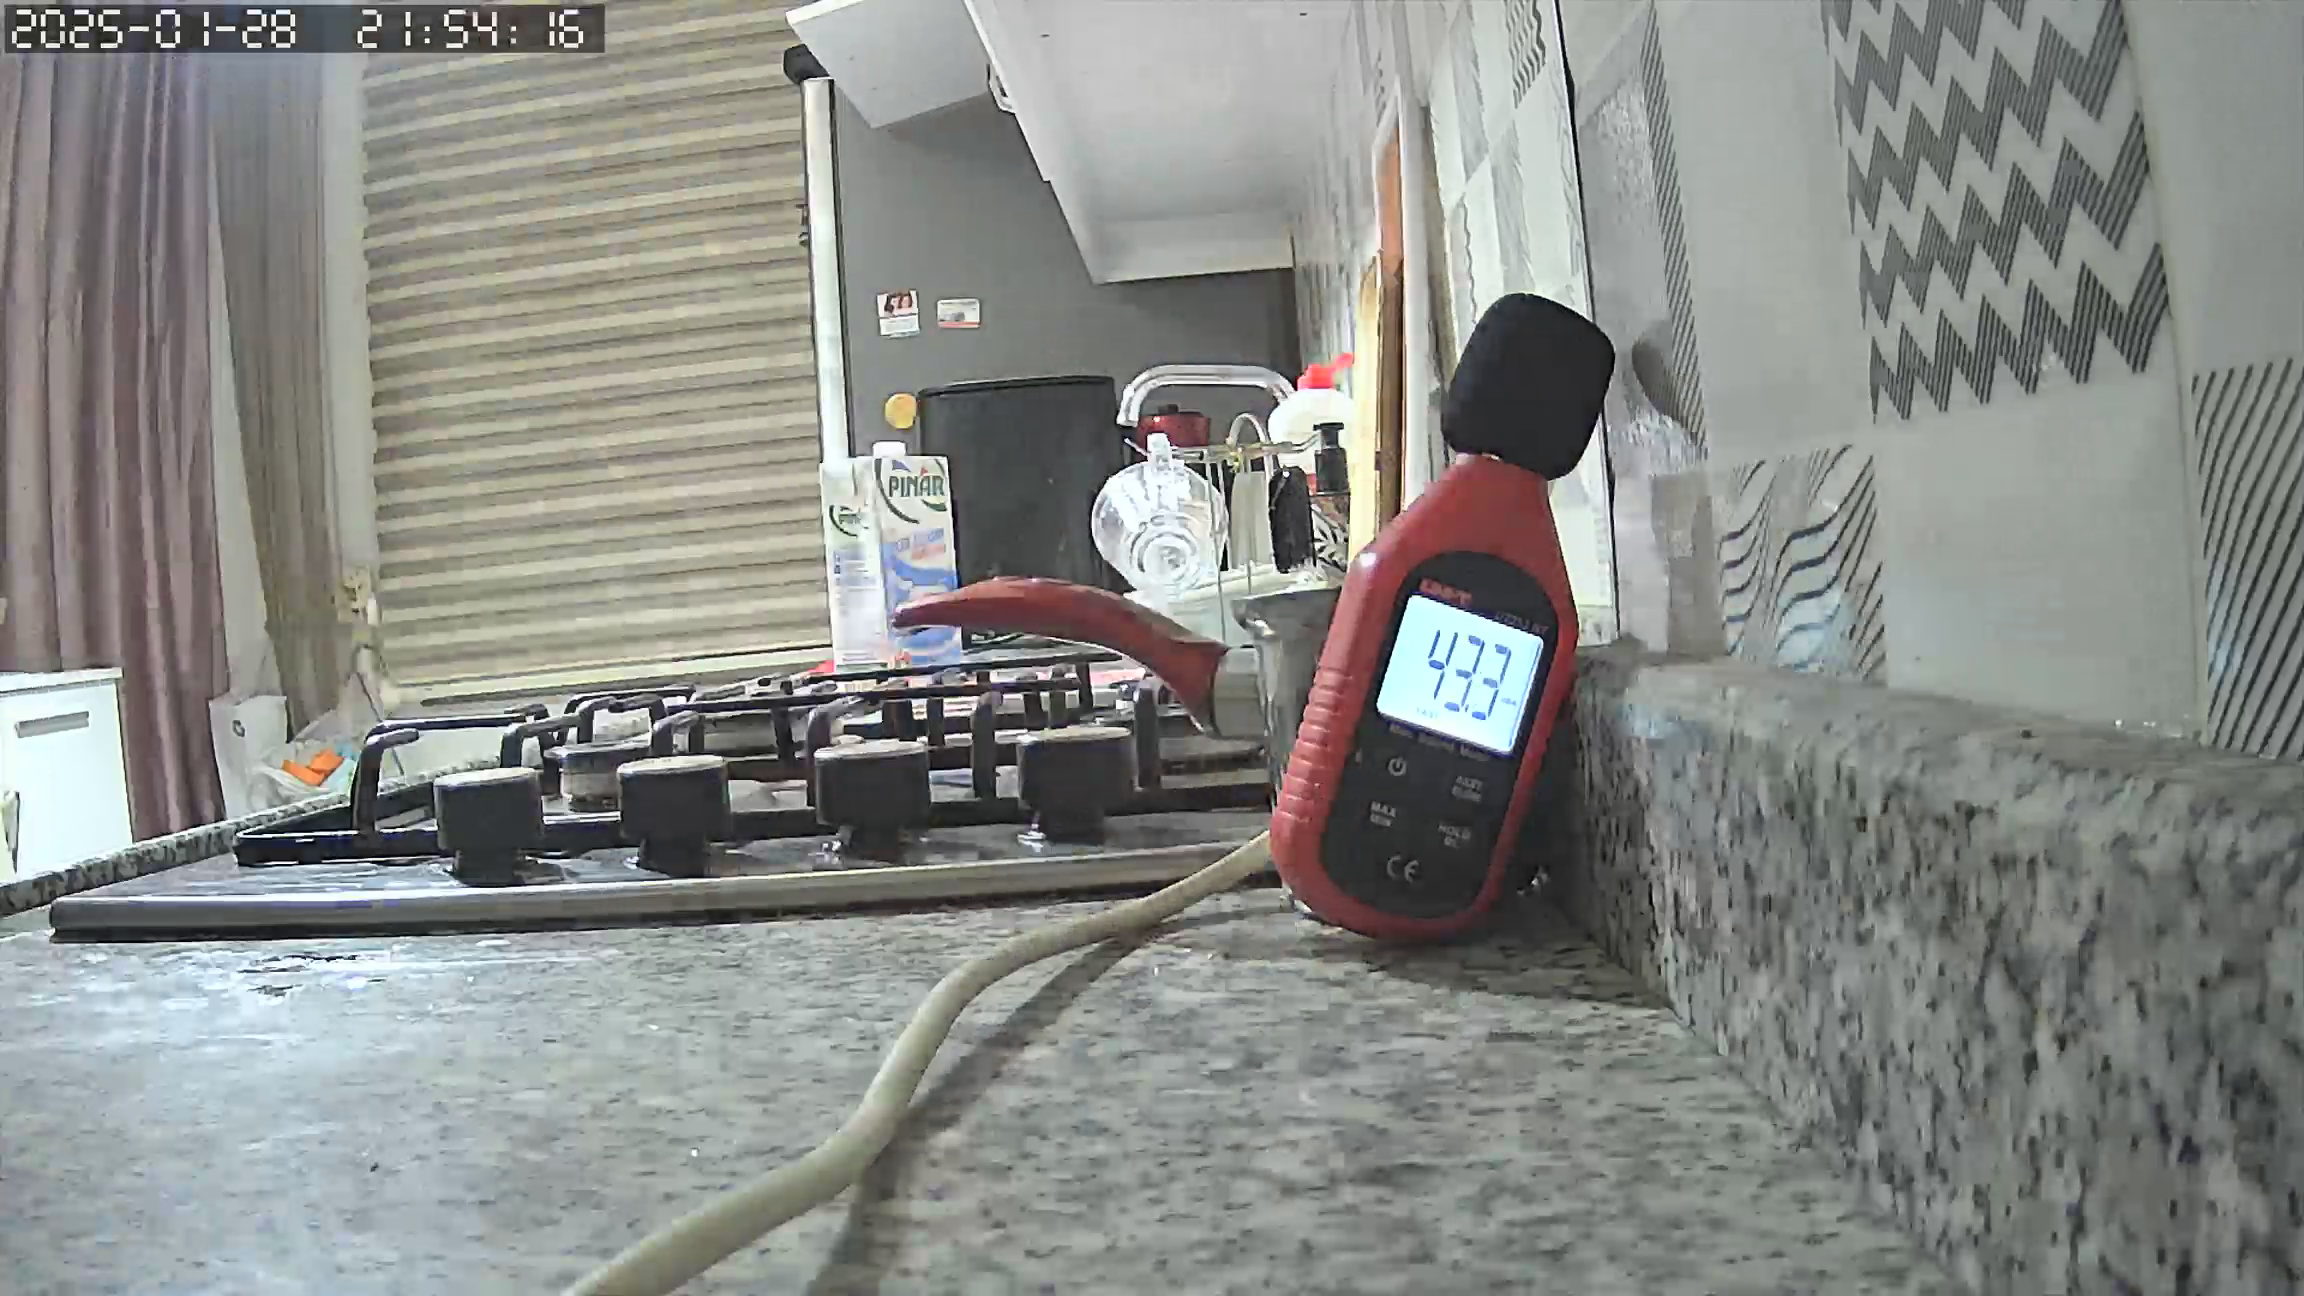screen: (1372, 597, 1541, 752)
